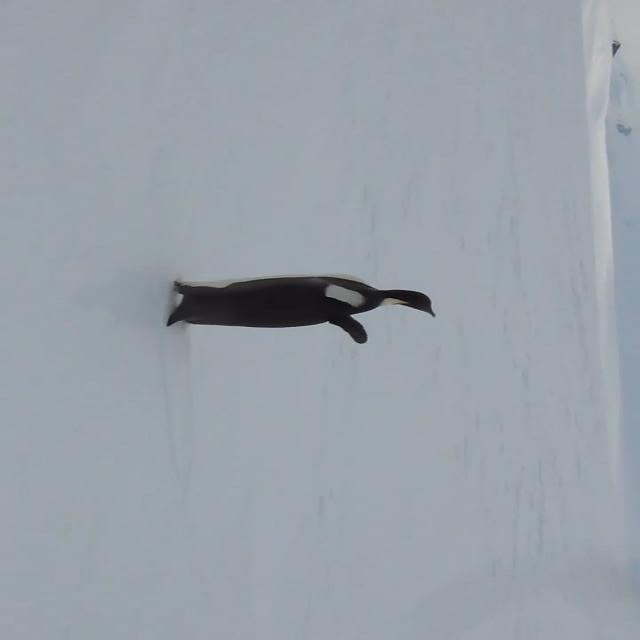penguin: (166, 273, 438, 345)
